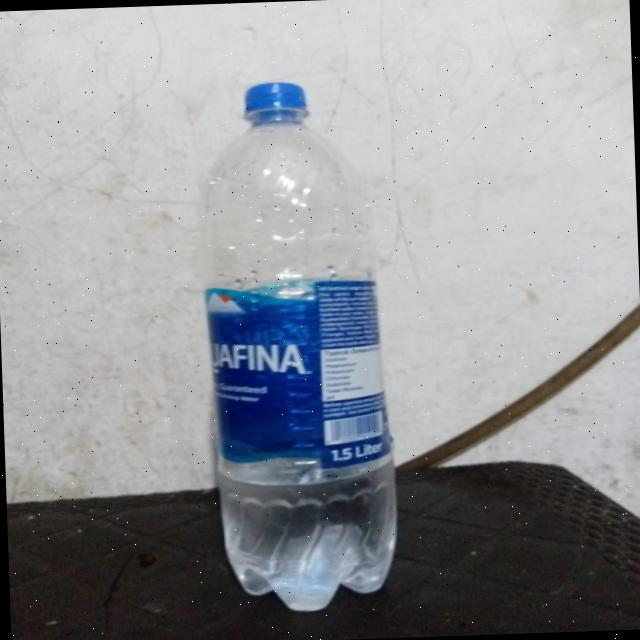bottle: (182, 59, 418, 618)
cap: (228, 78, 324, 132)
label: (200, 268, 407, 476)
